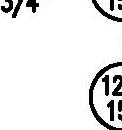instrumenttag: (88, 62, 122, 129), (91, 1, 122, 23)
